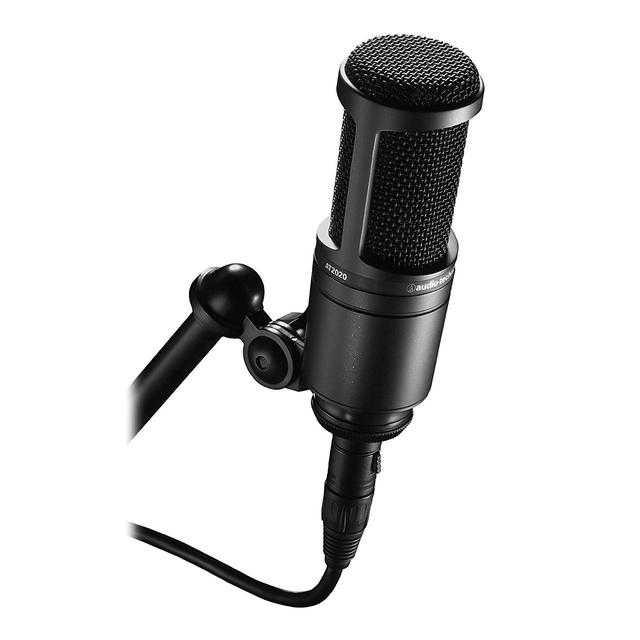microphone: (304, 41, 481, 428)
